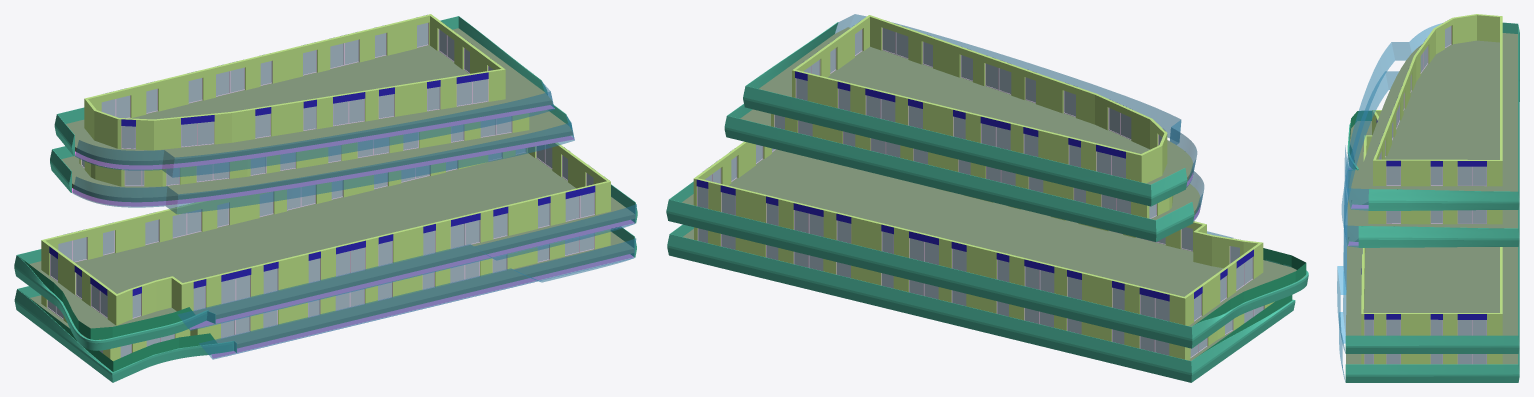
The model's file is VID.glb.
The picture shows the model from 3 angles, left to right: view 1: azimuth 30°, elevation 25°; view 2: azimuth 150°, elevation 25°; view 3: azimuth 270°, elevation 25°; orthographic projection. The views are drawn at different scales.
Visible parts, largest first — view 1: Object.408, Object.342, Object.424, Object.278, Object.414, Object.412, Object, Object.420, Object.344, Object.410; view 2: Object.414, Object.342, Object.408, Object.278, Object.424, Object.344, Object, Object.420; view 3: Object.408, Object.414, Object.342, Object.424, Object.278, Object.344, Object, Object.420.
Boxes of the visible parts, <box> form: Object.408: <box>29,28,635,348</box>; Object.342: <box>41,14,610,361</box>; Object.424: <box>72,81,636,359</box>; Object.278: <box>48,23,594,357</box>; Object.414: <box>14,16,637,382</box>; Object.412: <box>72,105,634,358</box>; Object: <box>47,22,594,352</box>; Object.420: <box>18,256,217,371</box>; Object.344: <box>49,25,595,295</box>; Object.410: <box>202,223,634,356</box>; Object.414: <box>666,22,1308,382</box>; Object.342: <box>693,15,1274,360</box>; Object.408: <box>682,27,1305,360</box>; Object.278: <box>697,28,1263,356</box>; Object.424: <box>835,14,1232,238</box>; Object.344: <box>696,71,1253,301</box>; Object: <box>697,27,1264,357</box>; Object.420: <box>1193,248,1306,357</box>; Object.408: <box>1346,33,1517,364</box>; Object.414: <box>1345,22,1519,382</box>; Object.342: <box>1361,14,1502,364</box>; Object.424: <box>1337,23,1442,381</box>; Object.278: <box>1364,26,1486,364</box>; Object.344: <box>1361,44,1486,319</box>; Object: <box>1364,26,1486,364</box>; Object.420: <box>1349,110,1371,162</box>.
Size of the model in its own units: 52.5 by 18.87 by 17.83.
